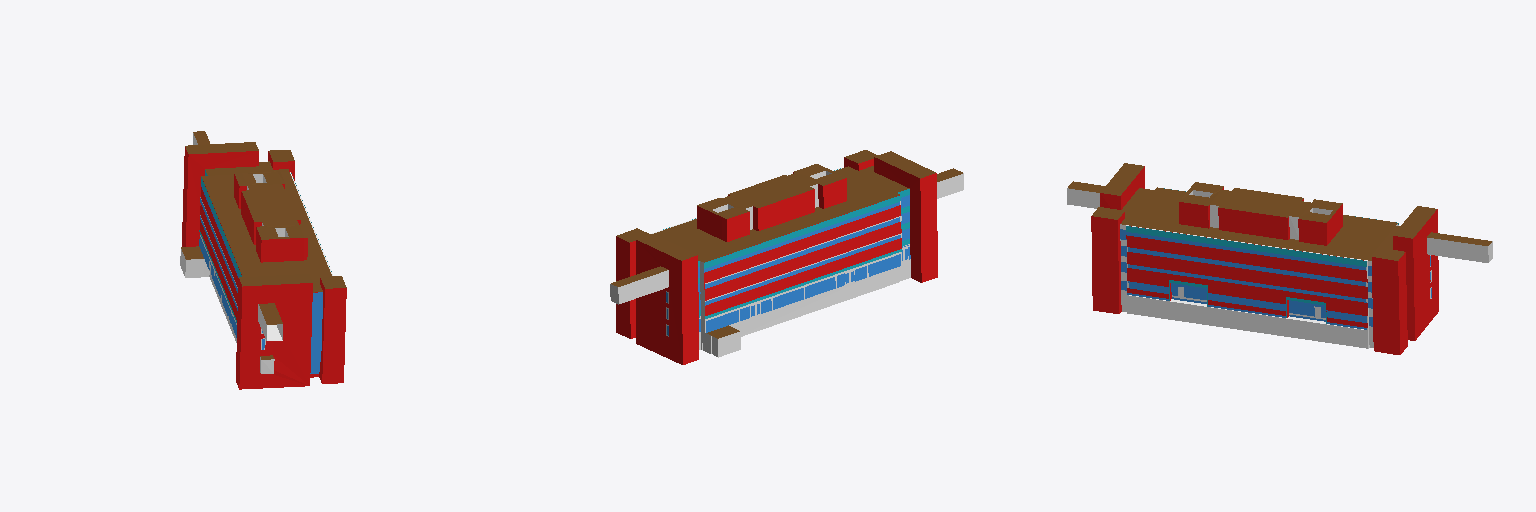
Rendered from Math.obj.
The picture shows the model from 3 angles: view 1: azimuth 30°, elevation 25°; view 2: azimuth 150°, elevation 25°; view 3: azimuth 270°, elevation 25°; orthographic projection.
Visible parts, largest first — view 1: SM_Math_Bldgs, SM_Math_Wndws; view 2: SM_Math_Bldgs, SM_Math_Wndws; view 3: SM_Math_Bldgs, SM_Math_Wndws.
Part boxes in pixels (left/top/right/bottom): SM_Math_Bldgs: left=180, top=131, right=346, bottom=389; SM_Math_Wndws: left=199, top=173, right=331, bottom=373; SM_Math_Bldgs: left=610, top=150, right=963, bottom=364; SM_Math_Wndws: left=663, top=168, right=910, bottom=336; SM_Math_Bldgs: left=1067, top=163, right=1492, bottom=354; SM_Math_Wndws: left=1120, top=188, right=1431, bottom=329.
Bounding box in the file's own units: 4178 × 2449 × 8253.